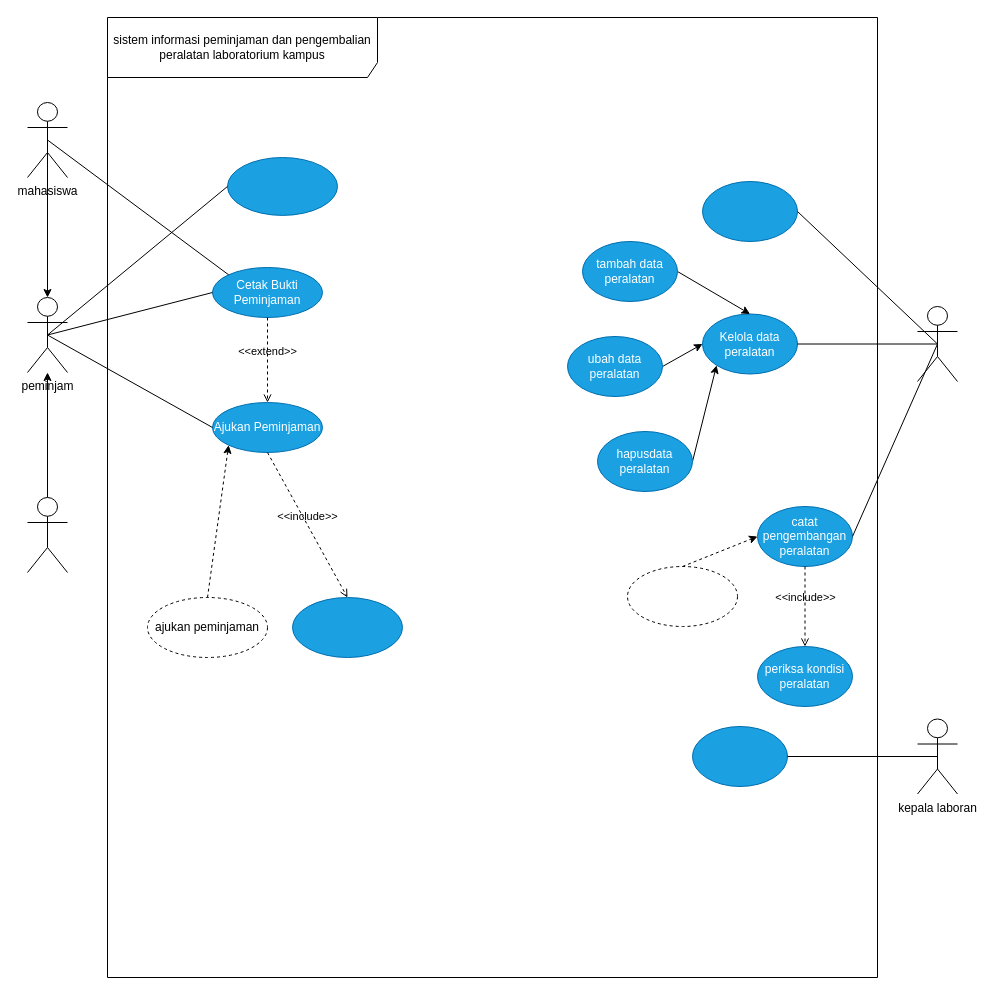
The diagram is 997 pixels wide and 995 high, and some of its shapes have lost their labels. The centre of each missing label's shape, as x and y in pixels:
catat pengembalian peralatan: point (682, 596)
dosen: point (47, 534)
Lihat ketersediaan peratalan: point (282, 185)
lihat laporan peminjaman: point (740, 756)
periksa Ketersediaan: point (347, 627)
petugas laboran: point (937, 344)
Proses Keputusan Peminjaman: point (750, 211)
